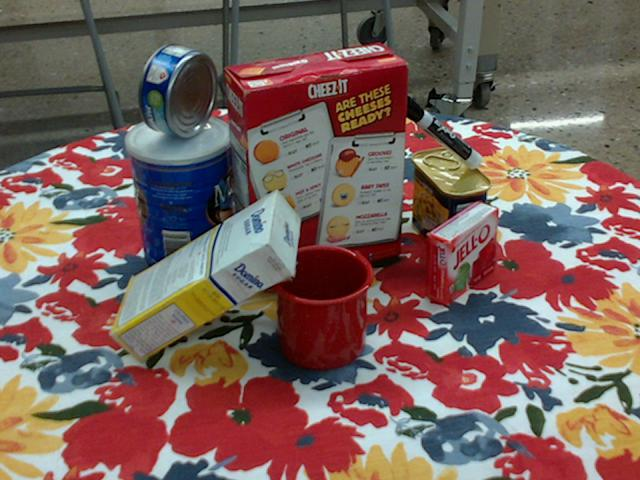cracker_box: (222, 43, 409, 289)
gelatin_box: (426, 200, 500, 305)
large_marker: (397, 95, 483, 168)
master_chef_can: (126, 114, 237, 283)
mug: (266, 242, 374, 369)
mustard_bottle: (340, 44, 398, 226)
potted_meat_can: (412, 147, 492, 260)
sugar_box: (106, 189, 299, 364)
tomato_soup_can: (254, 110, 316, 216)
tuna_fish_can: (137, 43, 215, 137)
